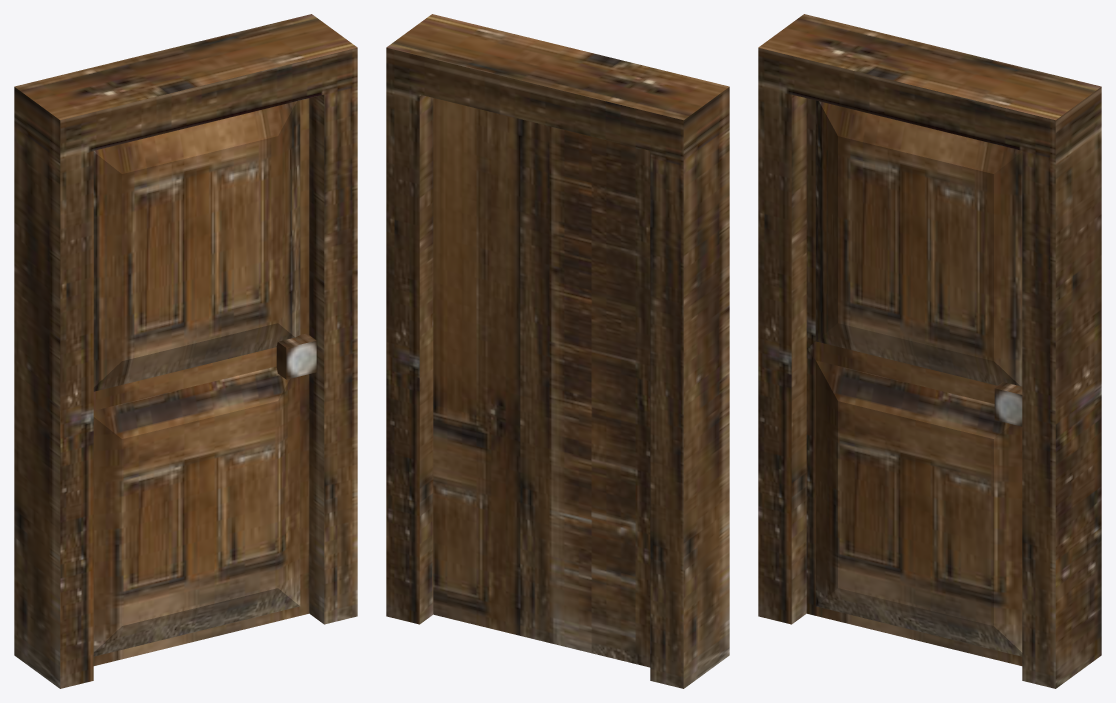
File: Door.fbx
3 views of the same model, side by side, from view 1: azimuth 30°, elevation 25°; view 2: azimuth 150°, elevation 25°; view 3: azimuth 330°, elevation 25° (orthographic).
Visible parts, largest first — view 1: Cube.001, Cube, Cube.002; view 2: Cube.001, Cube; view 3: Cube.001, Cube, Cube.002.
Boxes of the visible parts, box(x1,y1,x2,y2) form: Cube.001: box(93, 98, 309, 665); Cube: box(14, 14, 357, 688); Cube.002: box(276, 333, 316, 379); Cube.001: box(433, 98, 650, 667); Cube: box(386, 14, 729, 688); Cube.001: box(806, 98, 1022, 665); Cube: box(758, 14, 1101, 688); Cube.002: box(994, 382, 1022, 426).
Size of the model in its own units: 64.75 by 118 by 17.33.
1 material, 1 textured.
